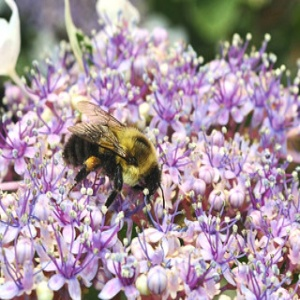bee: (61, 99, 169, 222)
